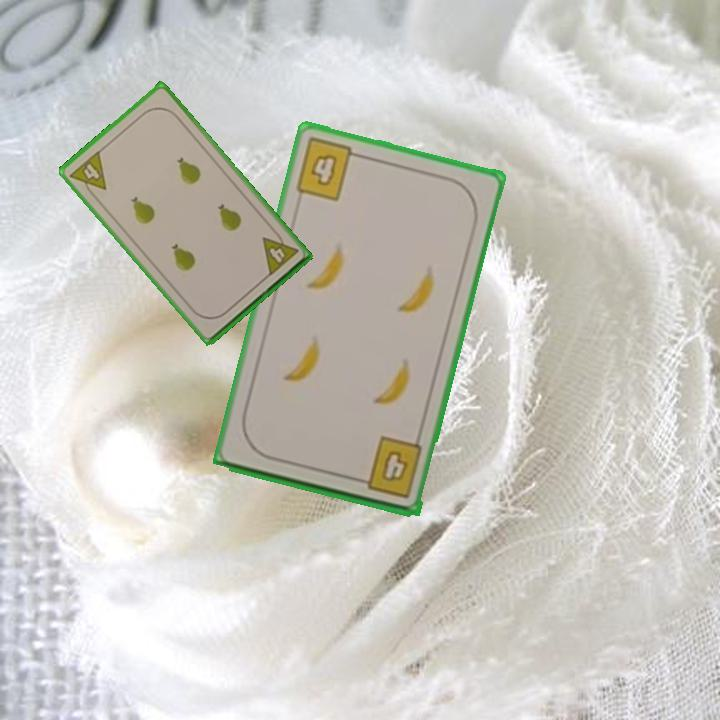4b: (291, 134, 366, 204), (352, 433, 425, 501)
4p: (66, 147, 109, 201), (258, 226, 301, 279)
